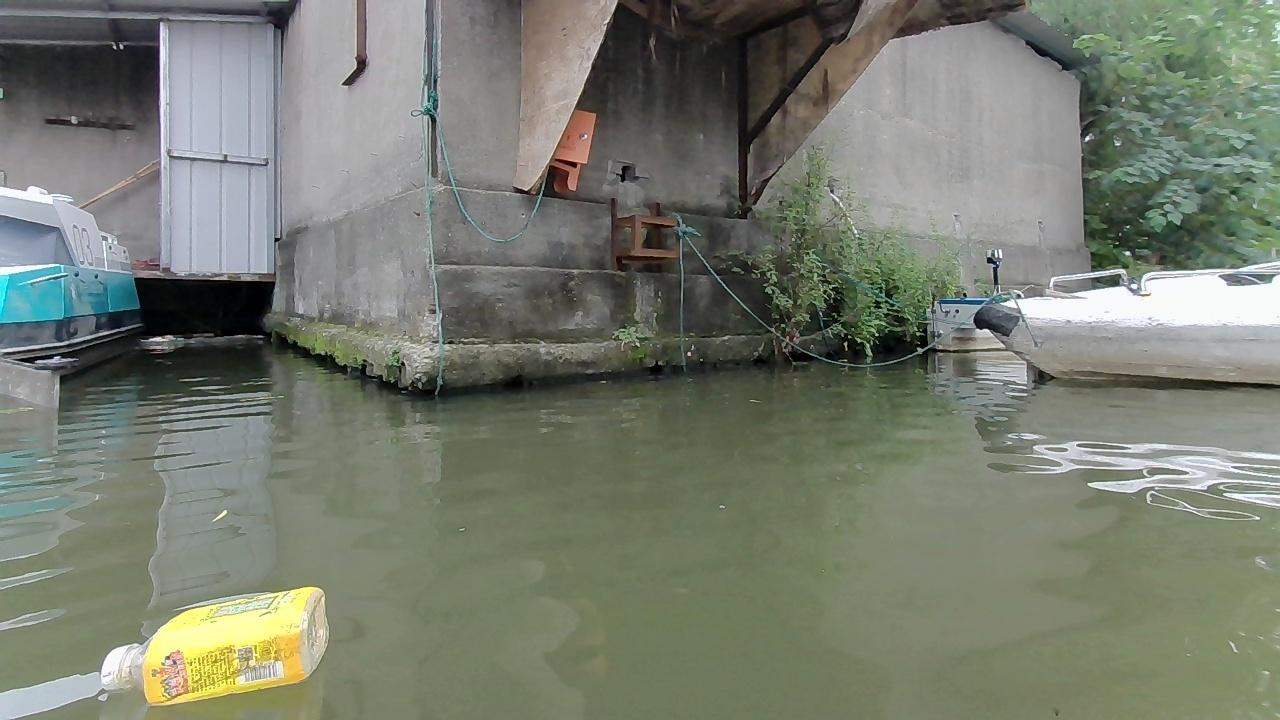bottle: (96, 578, 328, 708)
